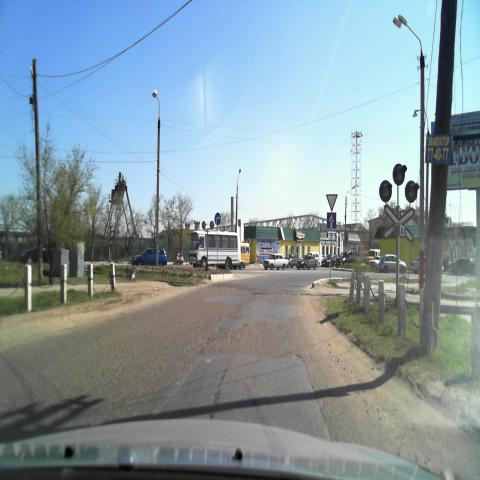4_1_2: (214, 213, 222, 227)
